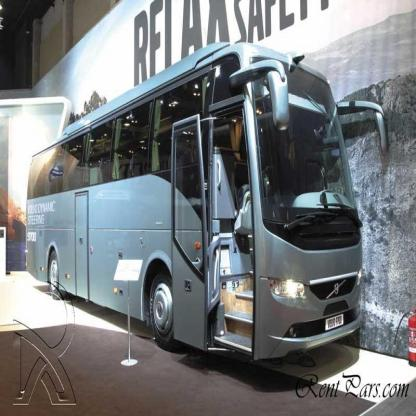Bus: (27, 44, 391, 380)
